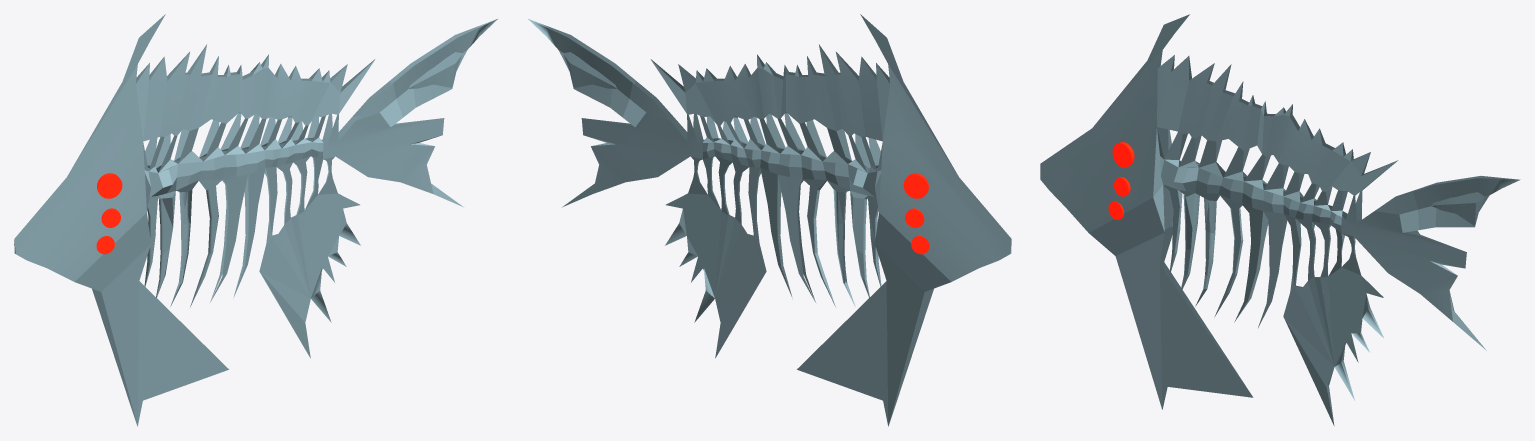
3 renders of one model, left to right at view 1: azimuth 30°, elevation 25°; view 2: azimuth 150°, elevation 25°; view 3: azimuth 330°, elevation 25°, orthographic.
Visible parts, largest first — view 1: 円, 円柱; view 2: 円, 円柱; view 3: 円, 円柱.
Boxes of the visible parts, x1,y1,x2,y2 form: 円: (14,14,497,426); 円柱: (97,173,122,198); 円: (528,14,1011,426); 円柱: (903,173,928,198); 円: (1040,14,1520,425); 円柱: (1112,142,1134,167).
Bounding box in the file's own units: 421 × 337 × 28.21.
